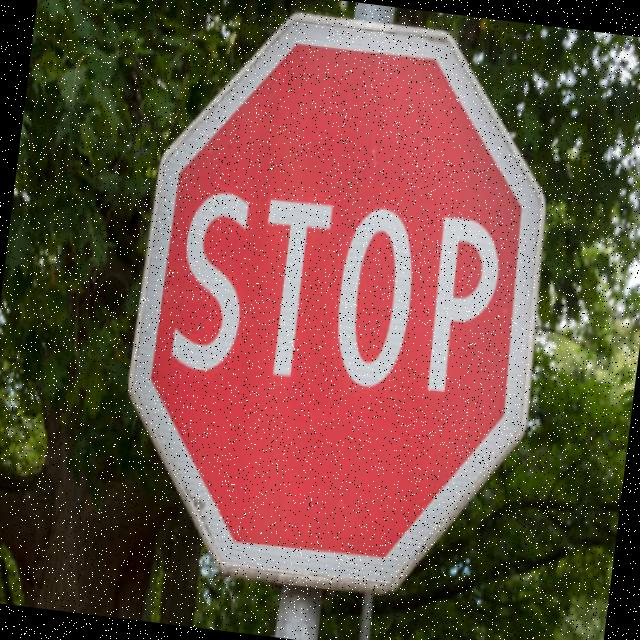stop: (103, 0, 576, 620)
